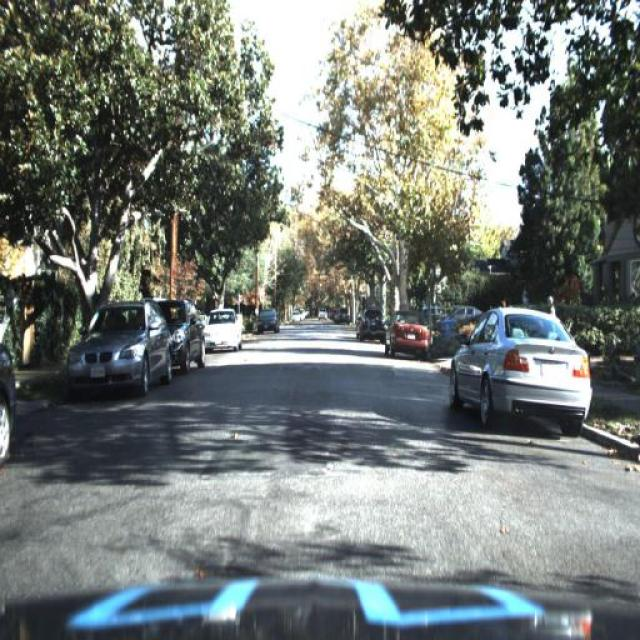car: (448, 301, 596, 428), (60, 300, 174, 396), (158, 291, 208, 370), (382, 309, 437, 362), (433, 295, 487, 334), (199, 306, 240, 352), (357, 305, 387, 341), (257, 301, 277, 333), (333, 302, 352, 328)
